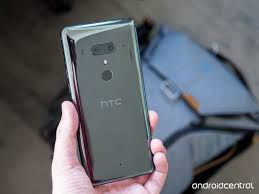htc: (61, 16, 156, 186)
